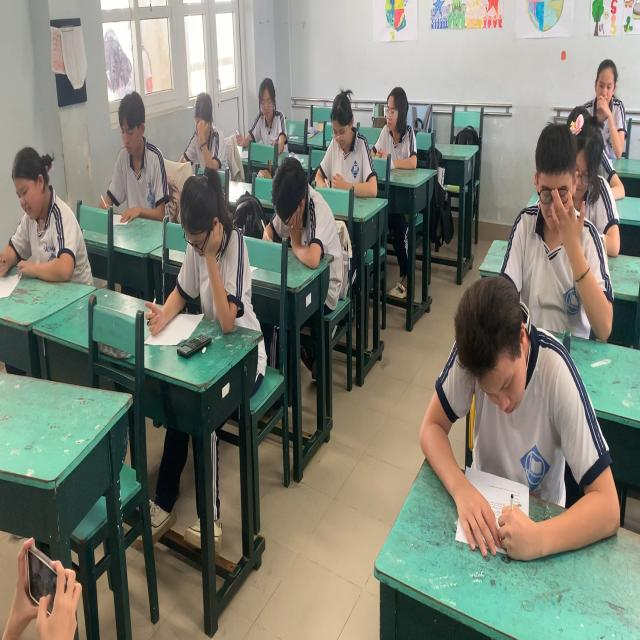not_cheating: (440, 288, 574, 520), (2, 137, 96, 286), (170, 168, 251, 334), (523, 111, 601, 278), (256, 151, 331, 255), (109, 98, 169, 226), (319, 89, 368, 209), (372, 58, 418, 179), (579, 50, 634, 146), (187, 88, 226, 167), (255, 71, 288, 147)
